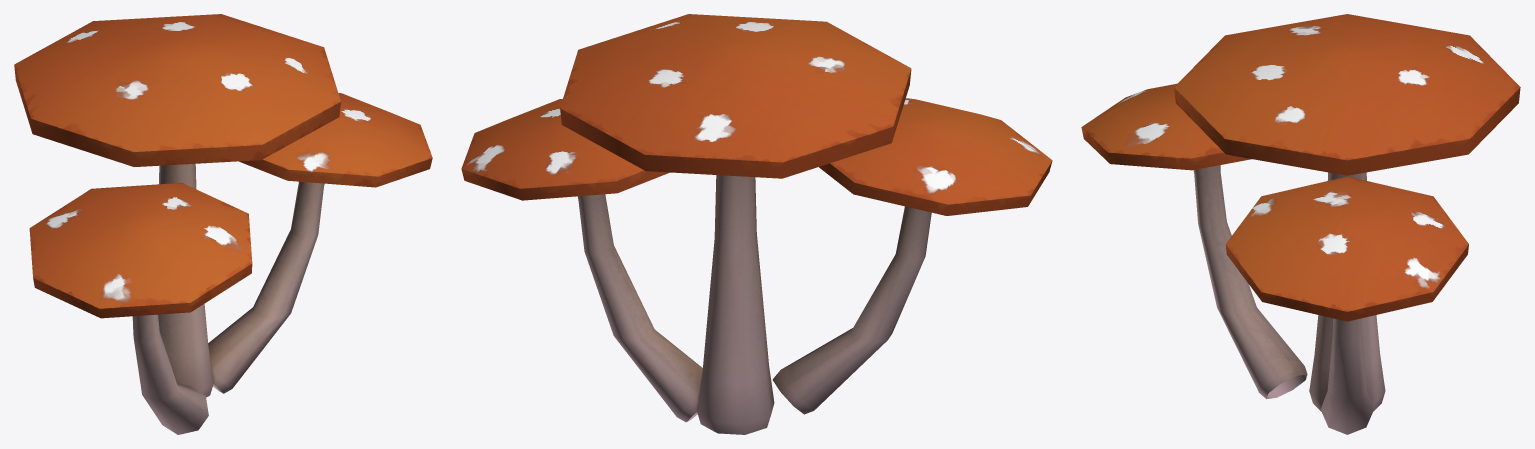
The model's file is SM_Mushroom_3.fbx.
The picture shows the model from 3 angles, left to right: view 1: azimuth 30°, elevation 25°; view 2: azimuth 150°, elevation 25°; view 3: azimuth 270°, elevation 25°; orthographic projection. The views are drawn at different scales.
Visible parts, largest first — view 1: SM_Mushroom_3; view 2: SM_Mushroom_3; view 3: SM_Mushroom_3.
Part boxes in pixels (bbox=[...]): SM_Mushroom_3: bbox=[14, 14, 432, 434]; SM_Mushroom_3: bbox=[461, 14, 1052, 434]; SM_Mushroom_3: bbox=[1081, 14, 1520, 434].
Size of the model in its own units: 53.94 by 40.26 by 44.29.
